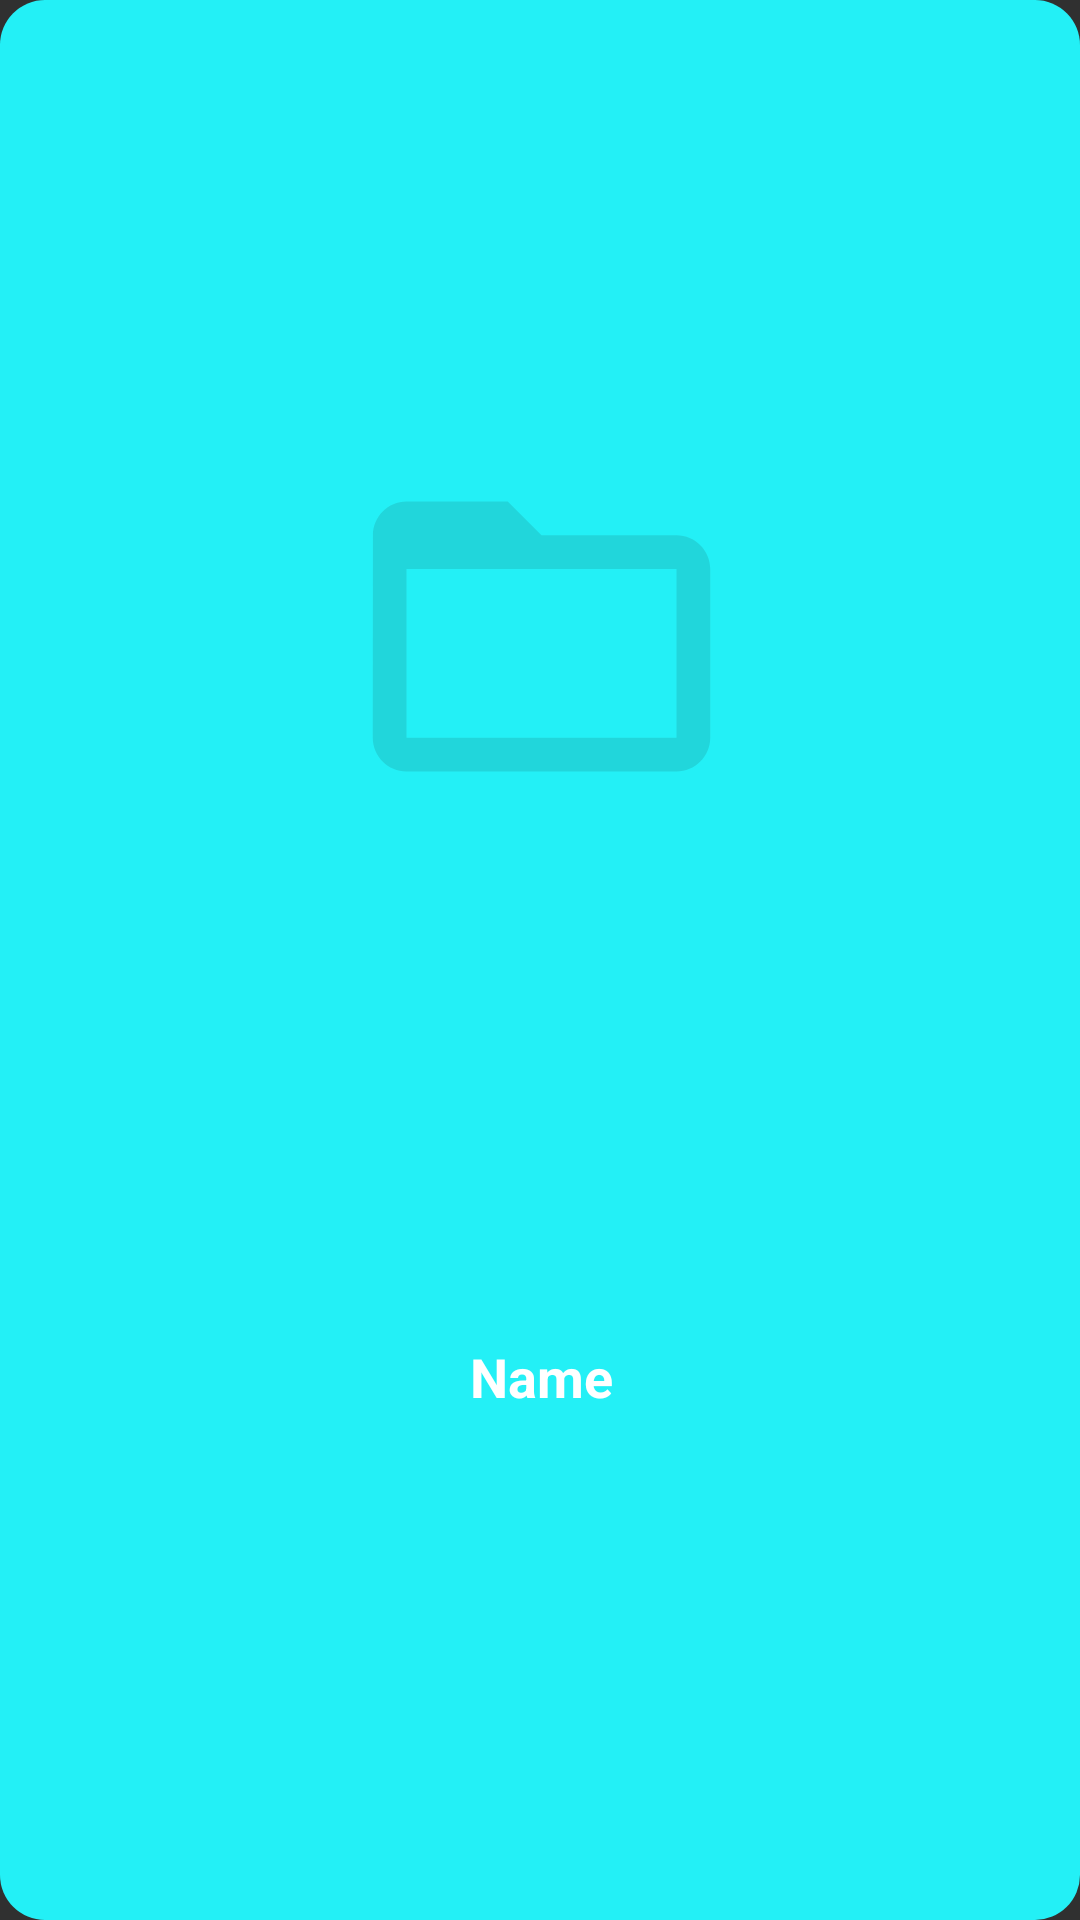

Locate icon controls on the screen. Image size 1080x1920, boxes as box(x1, y1, x2, y2).
folder open: box(373, 502, 710, 771)
